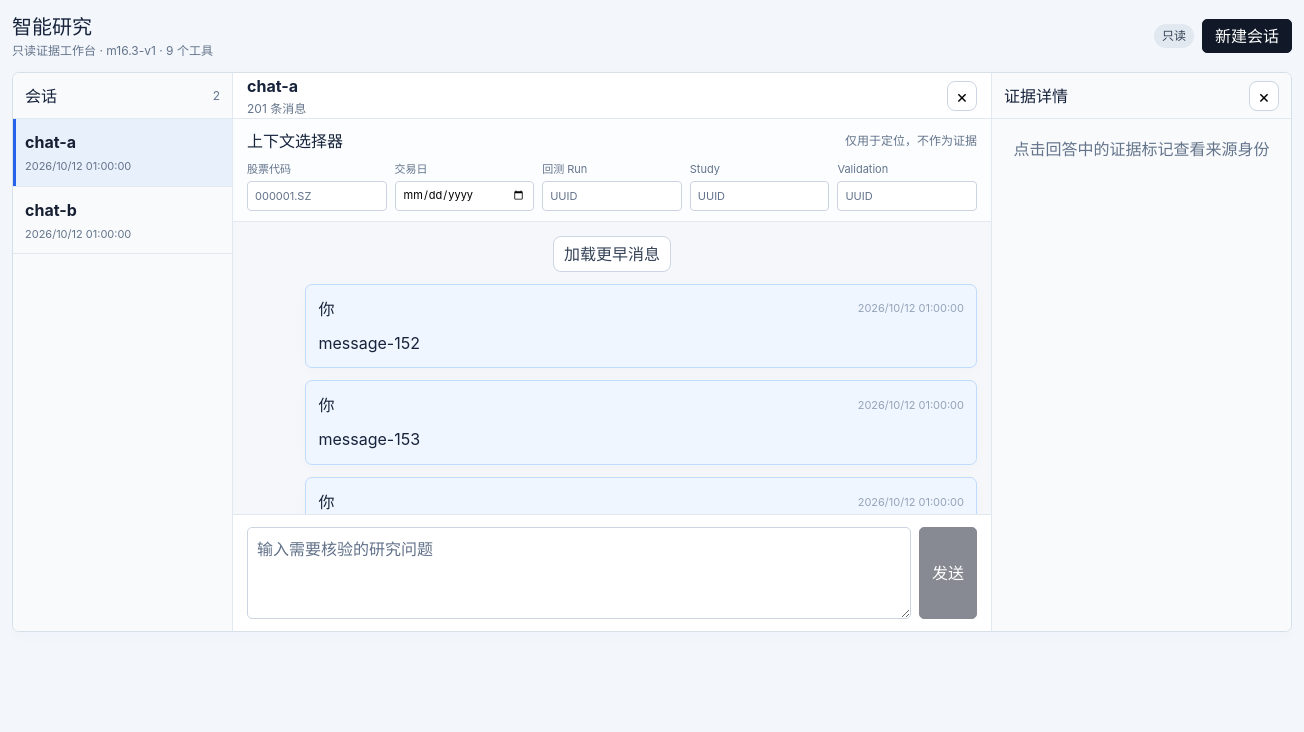
Test: opens the latest 50 of 201 and loads every earlier message once
The width and height of the screenshot is (1304, 732).
Click the button "加载更早消息" at {"x": 612, "y": 254}, box [553,236,671,272]
(page scrolled)
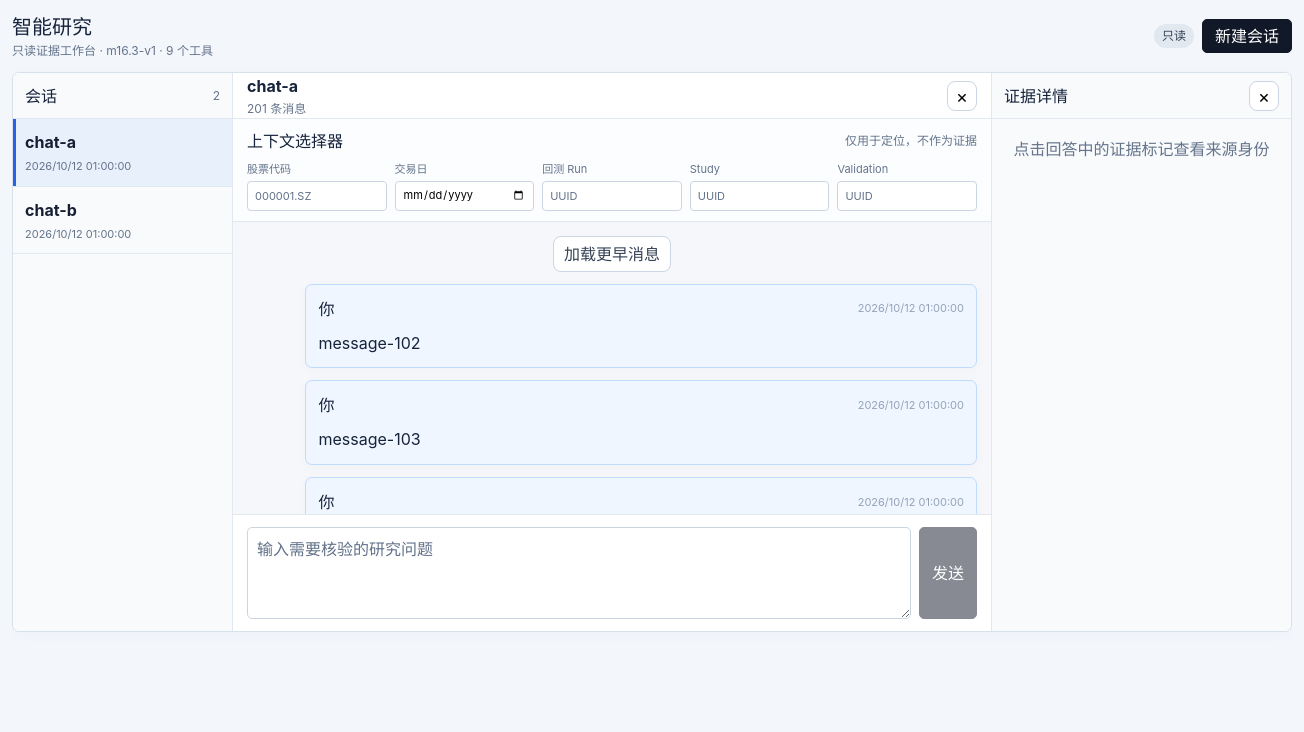
Click the button "加载更早消息" at {"x": 612, "y": 254}, box [553,236,671,272]
(page scrolled)
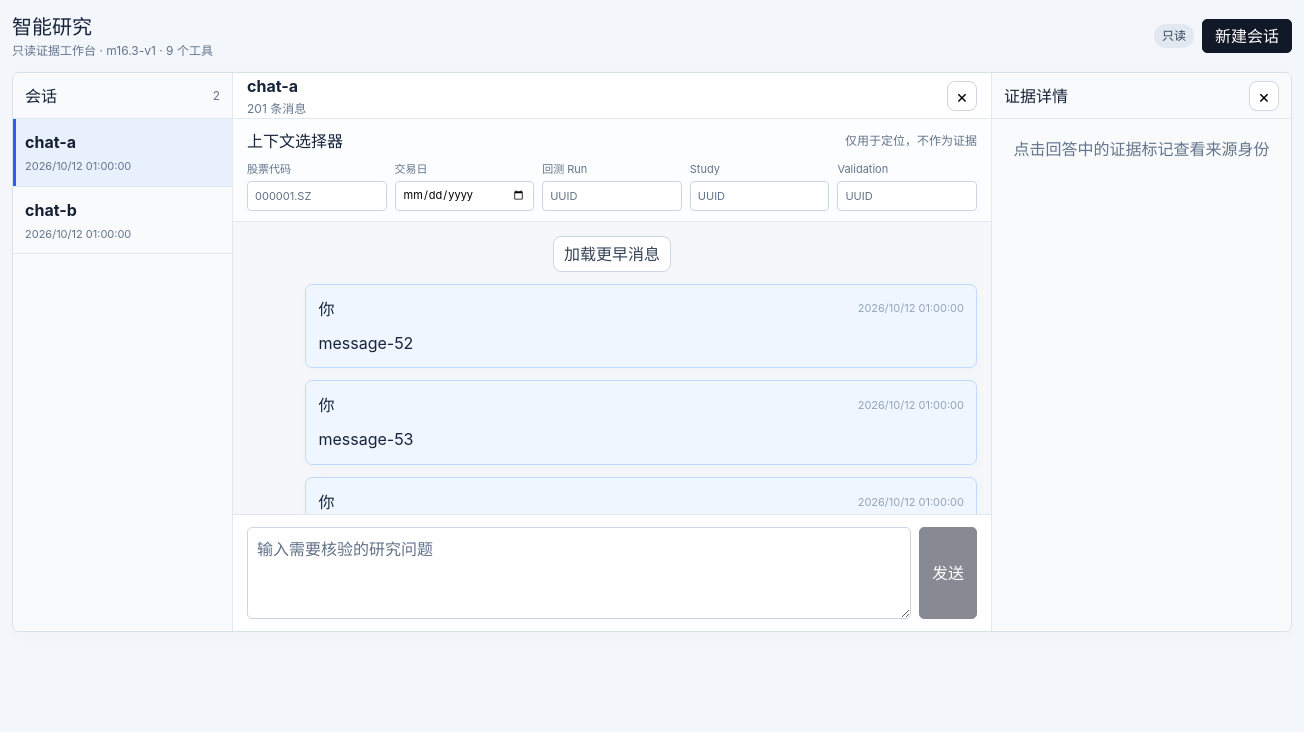
Click the button "加载更早消息" at {"x": 612, "y": 254}, box [553,236,671,272]
(page scrolled)
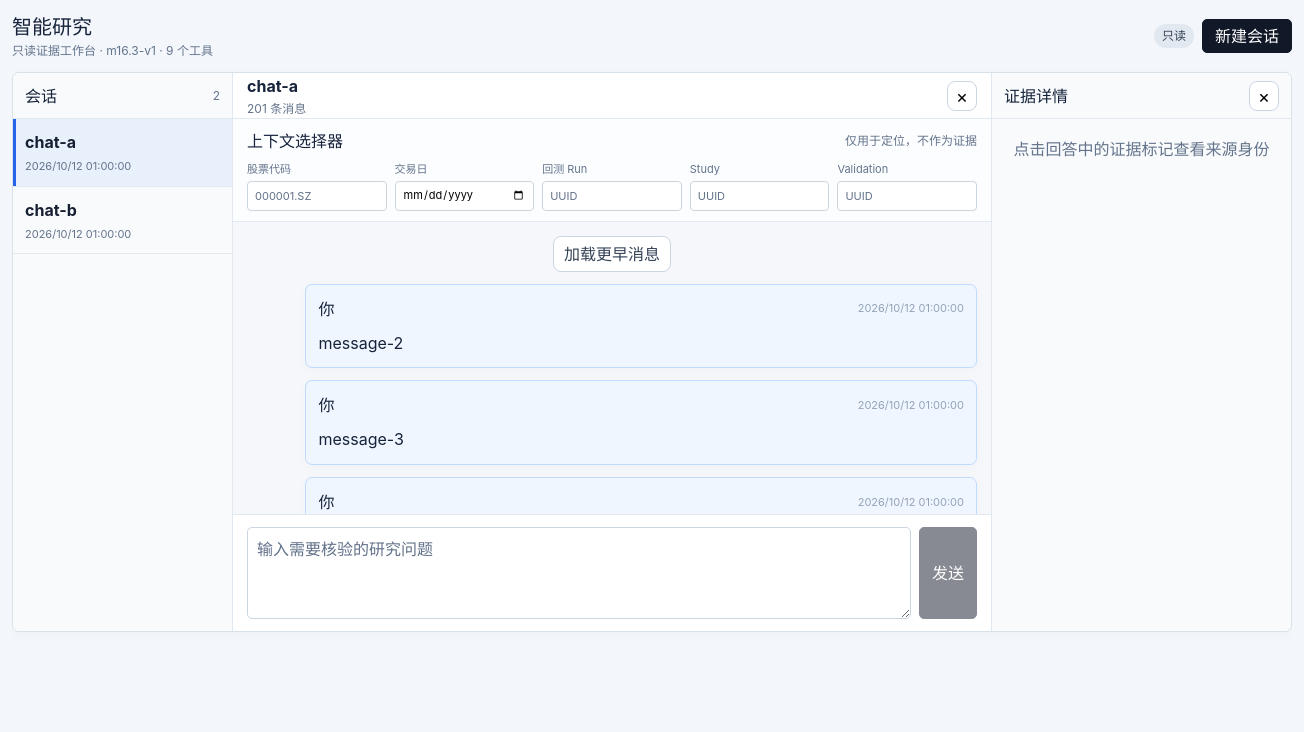
Click the button "加载更早消息" at {"x": 612, "y": 254}, box [553,236,671,272]
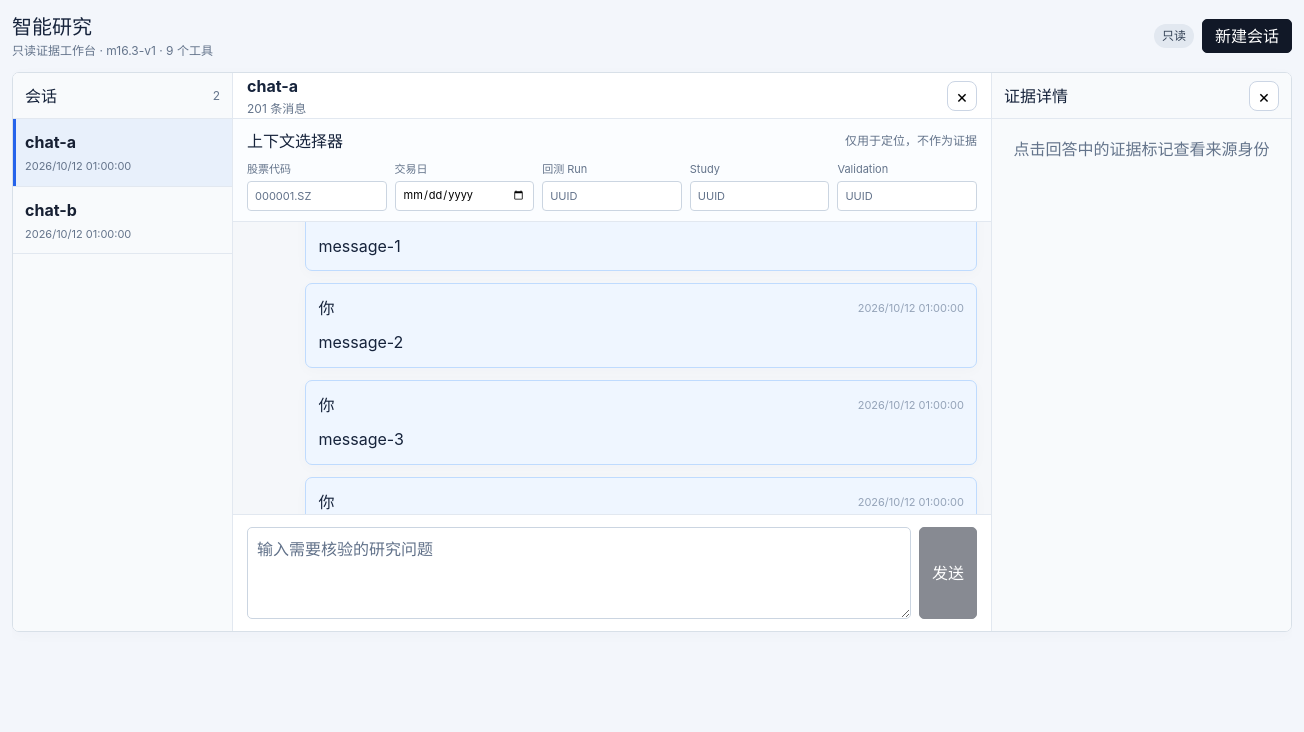
Result: the text "加载更早消息" is gone
